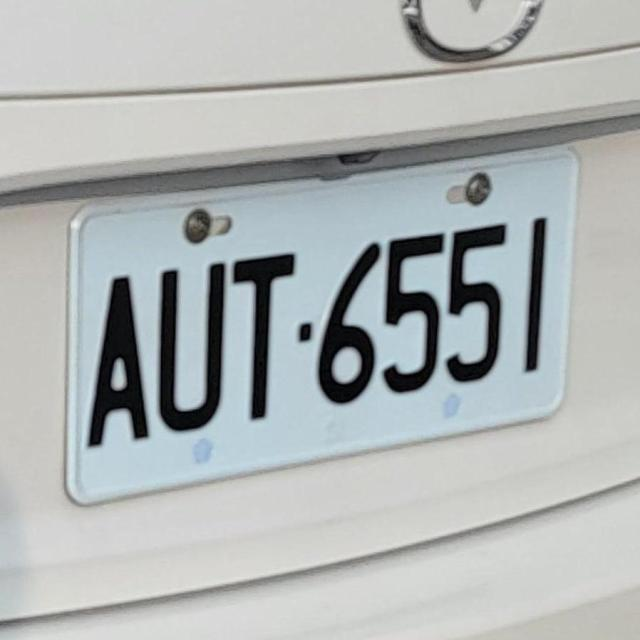W: (61, 146, 580, 509)
